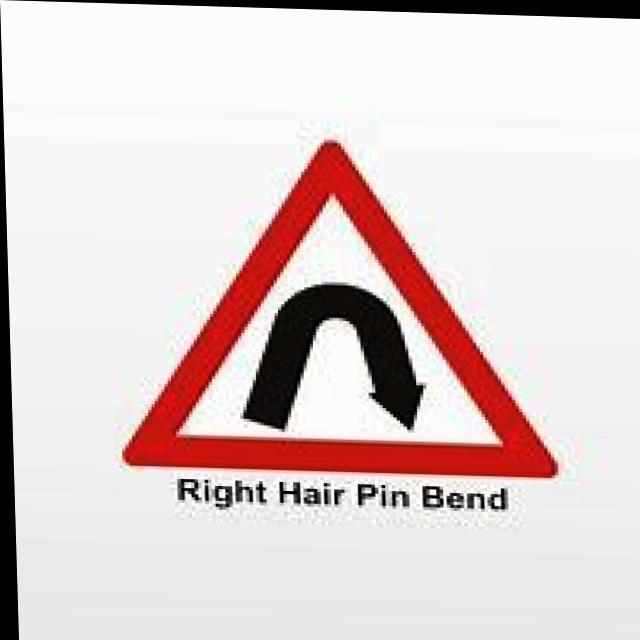RIGHT_HAIR_PIN_BEND: (97, 129, 562, 476)
